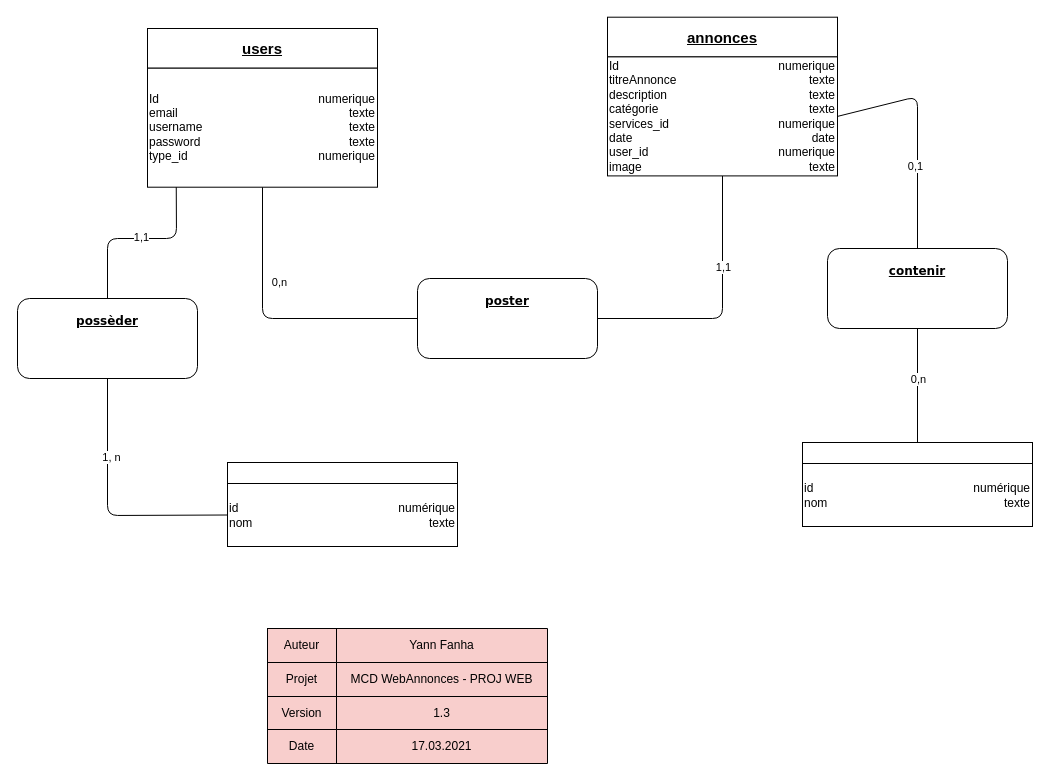
This 1050x782 diagram has some shape labels left out. Here are the shapes that lost their labels. From the top down, the centre of each, then its label:
At (x=342, y=473): "types".
At (x=917, y=453): "services".
